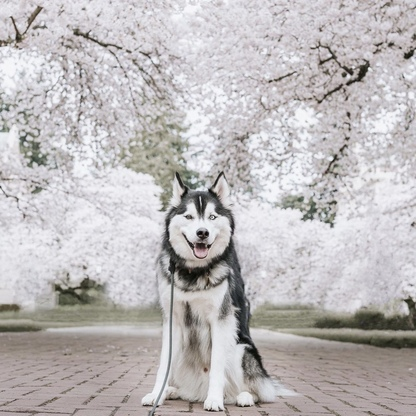husky: (136, 169, 305, 414)
